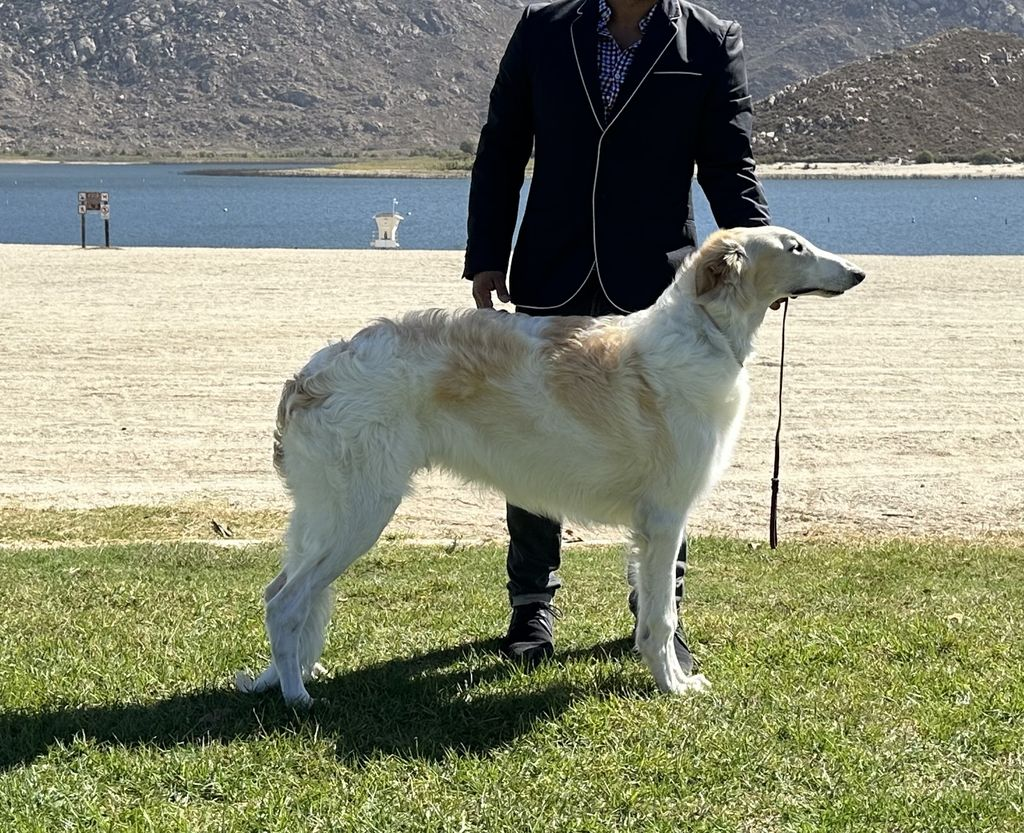borzoi: (235, 226, 879, 714)
